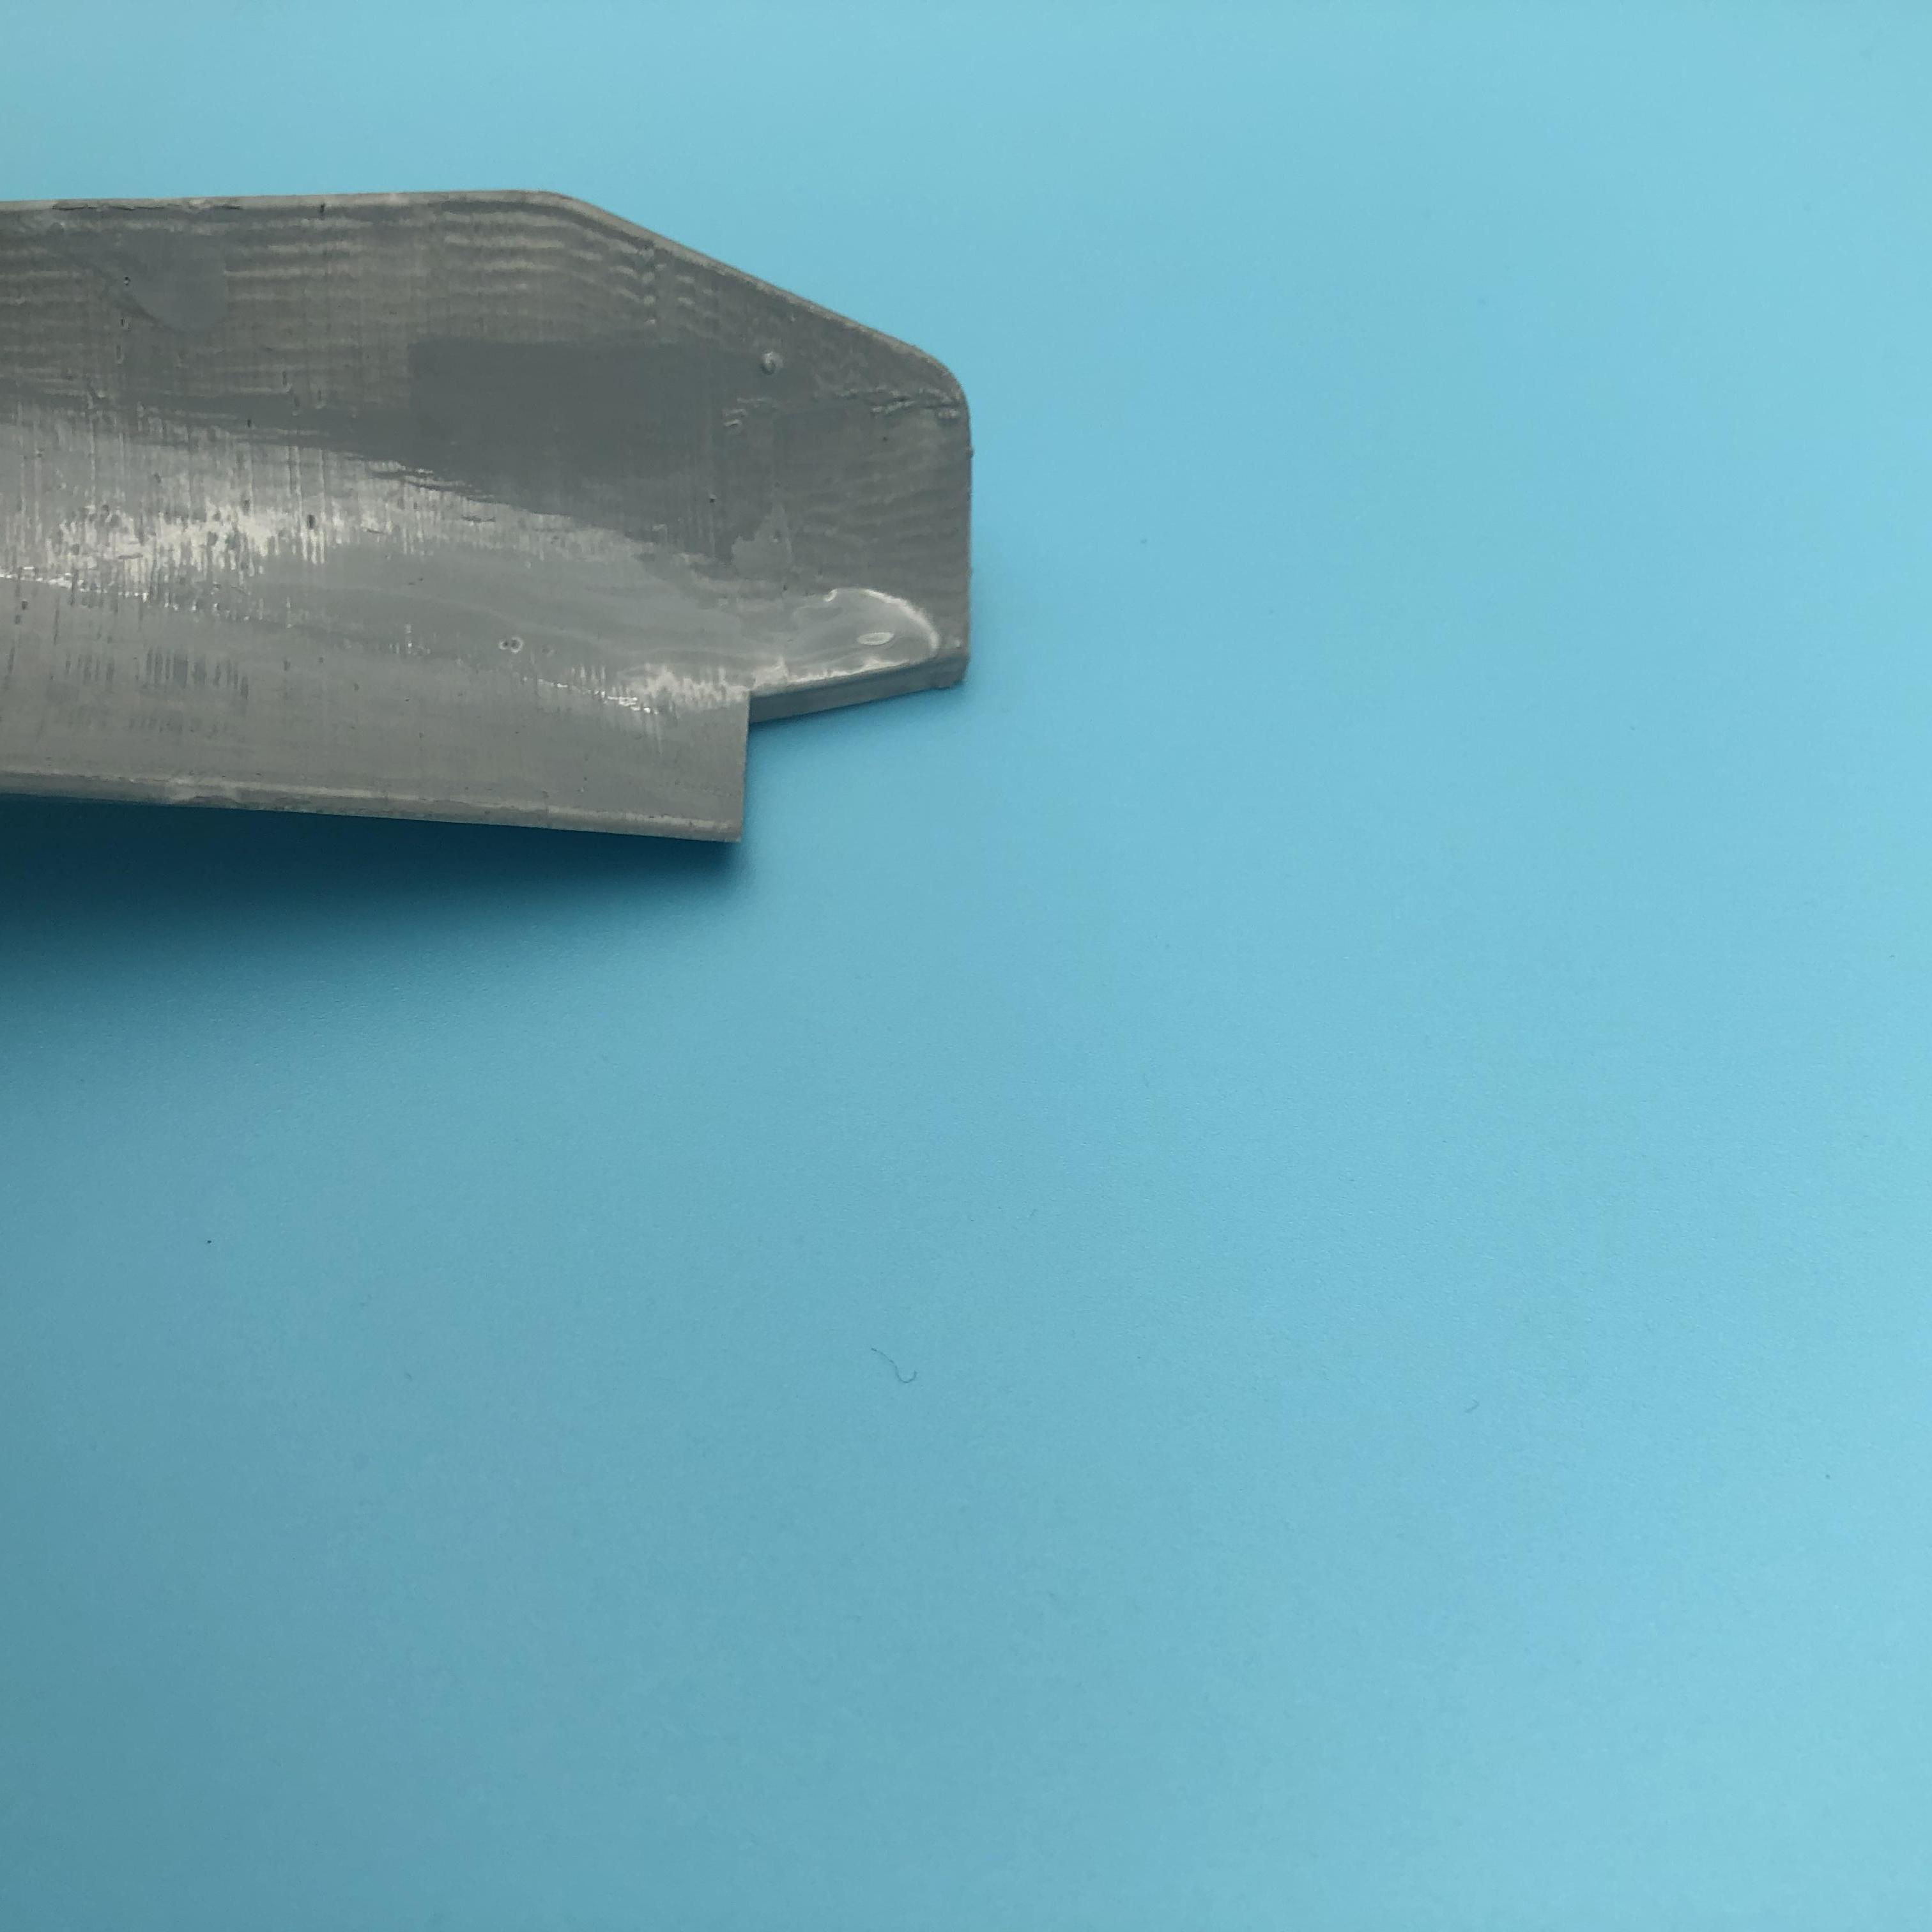fracture: (724, 656, 968, 844)
